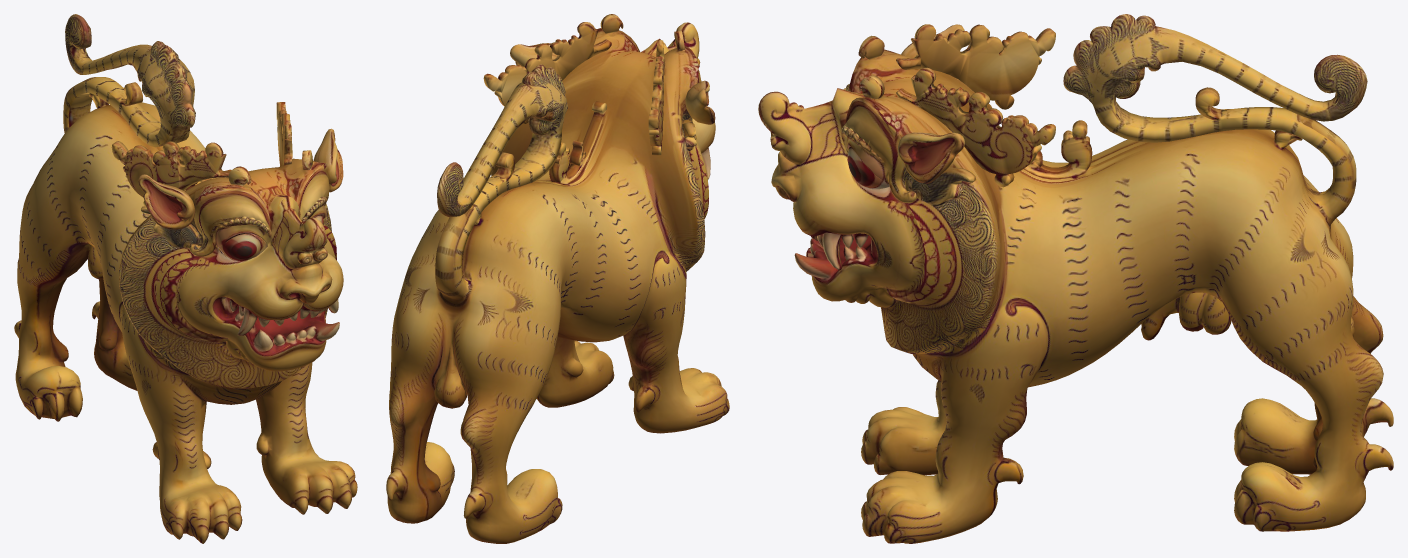
The model's file is ex41-the-lion-flag-model.glb.
3 views of the same model, side by side, from view 1: azimuth 30°, elevation 25°; view 2: azimuth 150°, elevation 25°; view 3: azimuth 270°, elevation 25° (orthographic). The views are drawn at different scales.
Parts seen in each view (by area): view 1: tripo_node_85e746b4; view 2: tripo_node_85e746b4; view 3: tripo_node_85e746b4.
Boxes of the visible parts, x1,y1,x2,y2 form: tripo_node_85e746b4: [14, 14, 357, 543]; tripo_node_85e746b4: [386, 14, 729, 543]; tripo_node_85e746b4: [758, 14, 1393, 543].
Size of the model in its own units: 0.7164 by 1.3 by 1.56.
Materials: 1 (1 with a texture image).
